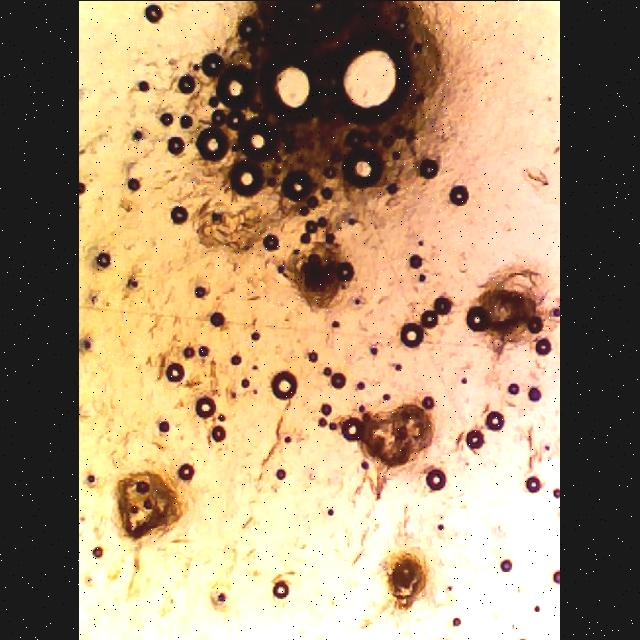microbeads: (204, 0, 461, 204), (474, 261, 560, 363), (278, 232, 364, 326), (358, 389, 436, 486), (116, 468, 186, 542), (382, 543, 436, 613)
